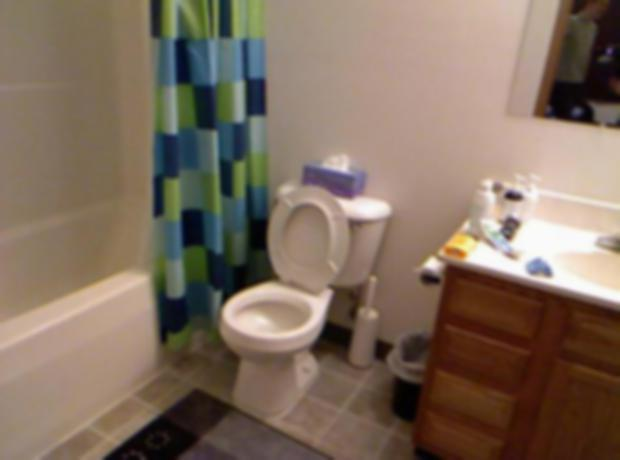Bote de Basura: (385, 319, 433, 428)
Lavamanos: (543, 228, 616, 314)
Sanitario: (203, 190, 386, 424)
